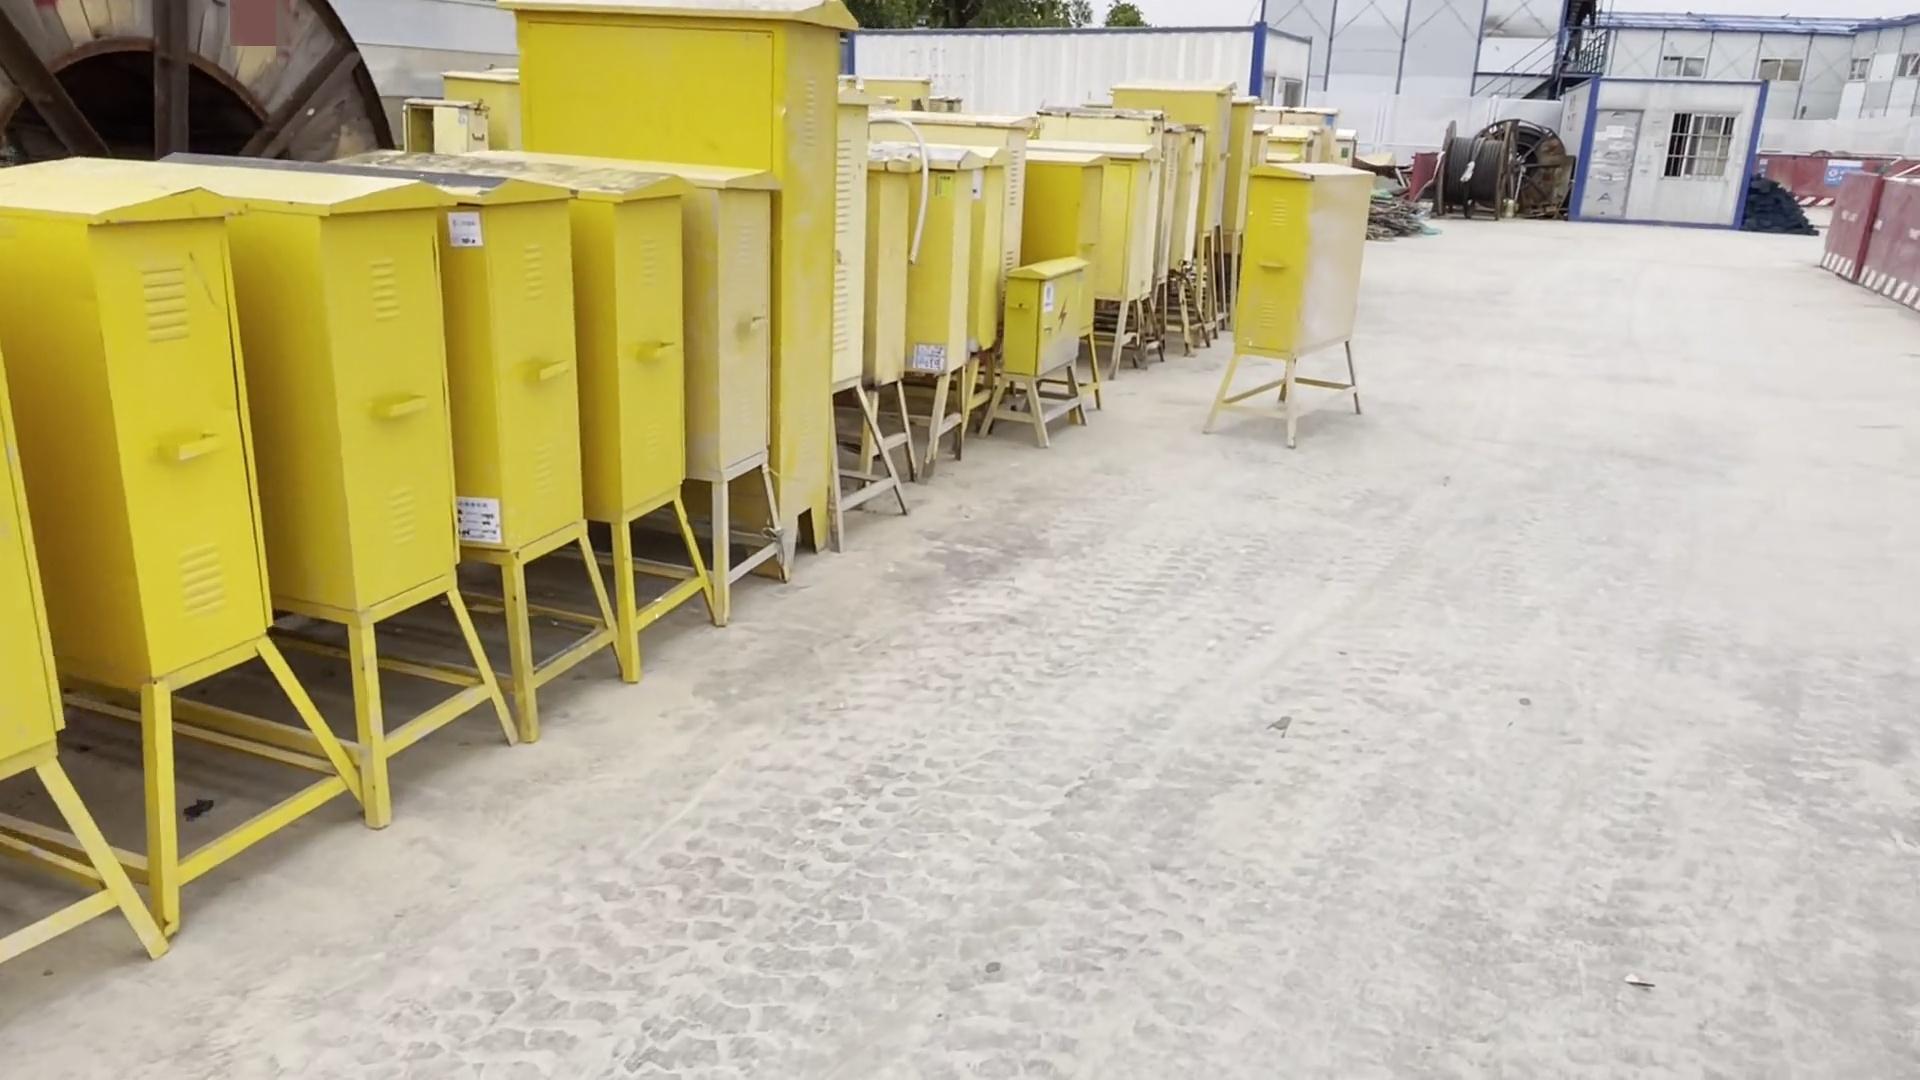ebox: (29, 131, 368, 975), (224, 142, 520, 761), (516, 8, 835, 553), (501, 152, 634, 765), (579, 141, 720, 690), (675, 145, 783, 622), (1197, 167, 1375, 446), (985, 249, 1116, 442)
